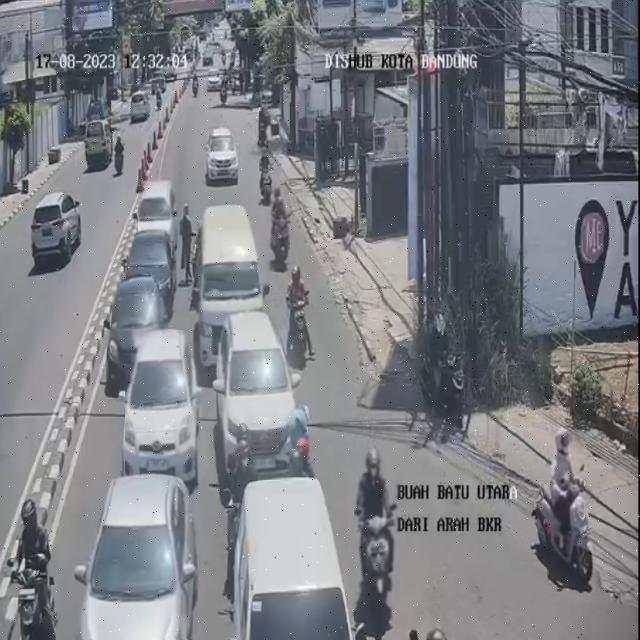cars: (229, 477, 362, 640), (76, 471, 198, 639), (219, 308, 305, 480), (126, 330, 202, 483), (196, 201, 268, 361), (112, 275, 168, 384), (129, 226, 179, 300), (138, 179, 182, 243), (205, 125, 239, 185)
motorcycle: (354, 449, 400, 621), (9, 494, 48, 640), (547, 431, 584, 575), (283, 263, 312, 357), (268, 186, 290, 272), (287, 432, 315, 477), (260, 149, 276, 208), (260, 111, 274, 157)
